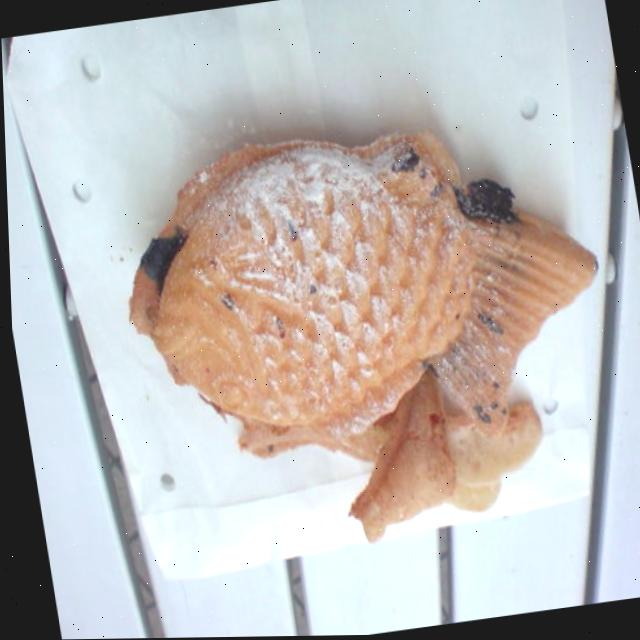熟制海鲜: (87, 78, 640, 583)
